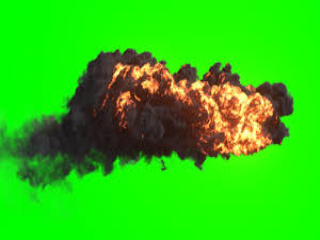fire: (194, 78, 275, 158)
smoke: (21, 53, 183, 163)
